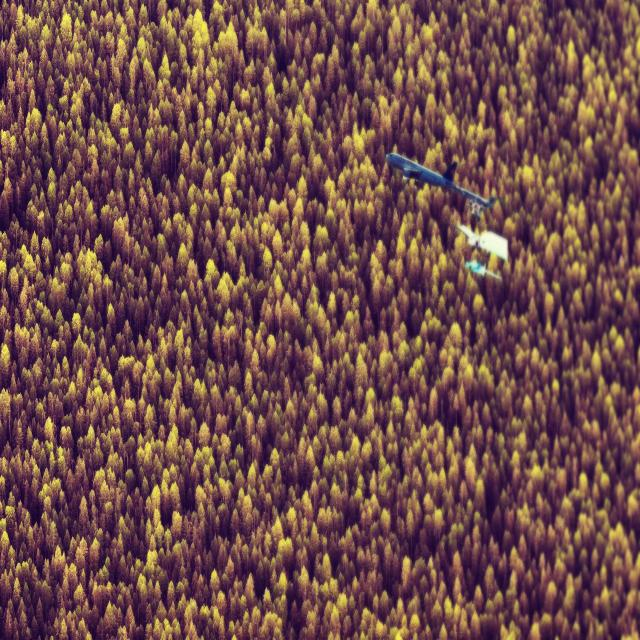airplane: (385, 150, 498, 220), (456, 222, 508, 262), (464, 258, 502, 282)
